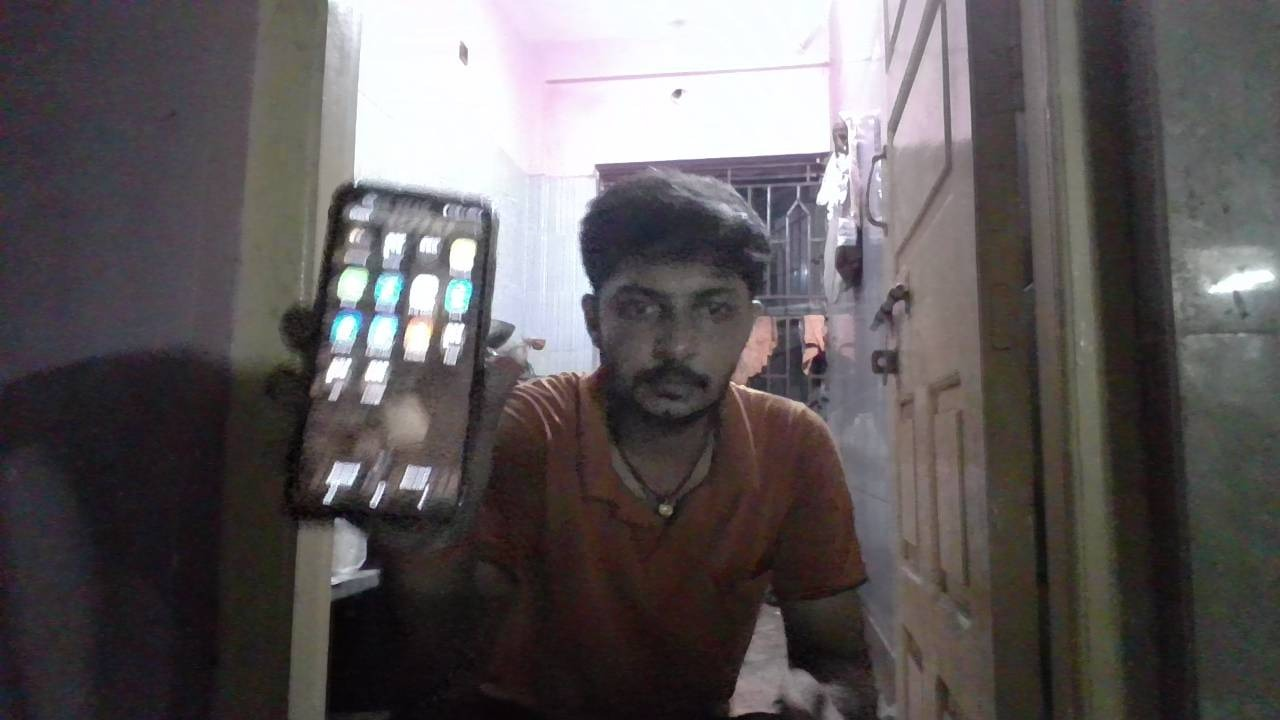red_box: (720, 392, 828, 558), (586, 379, 655, 527), (801, 464, 863, 585), (518, 384, 580, 454), (575, 486, 602, 580), (688, 486, 737, 531)
